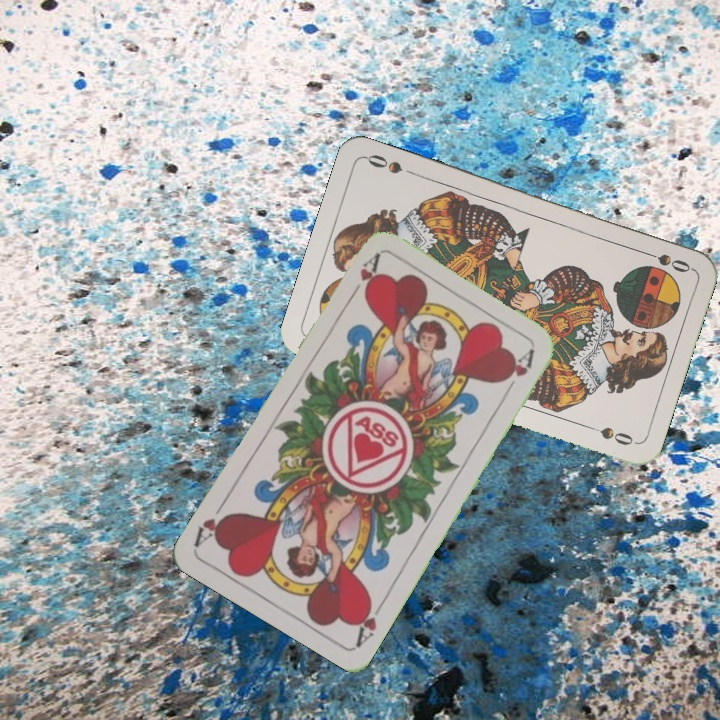HA: (344, 250, 383, 304), (351, 594, 389, 649)
SO: (636, 246, 693, 276)
